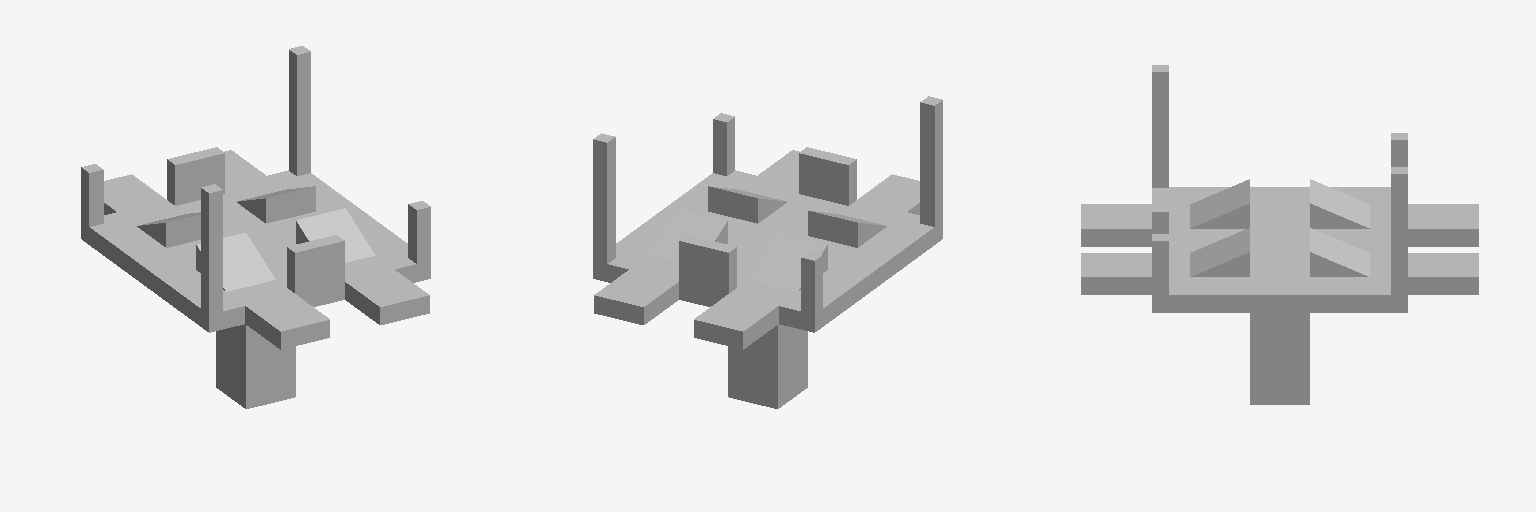
File: level_test2.obj
3 renders of one model, left to right at view 1: azimuth 30°, elevation 25°; view 2: azimuth 150°, elevation 25°; view 3: azimuth 270°, elevation 25°, orthographic.
Size of the model in its own units: 14.45 by 16.99 by 22.4.